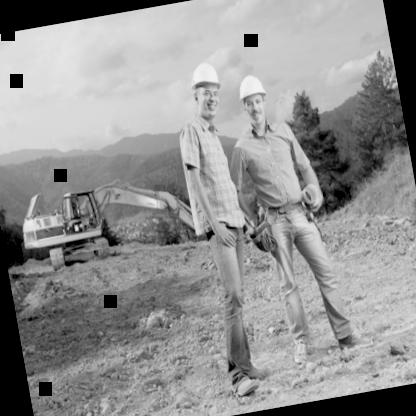helmet: (184, 58, 230, 126), (231, 66, 275, 133)
